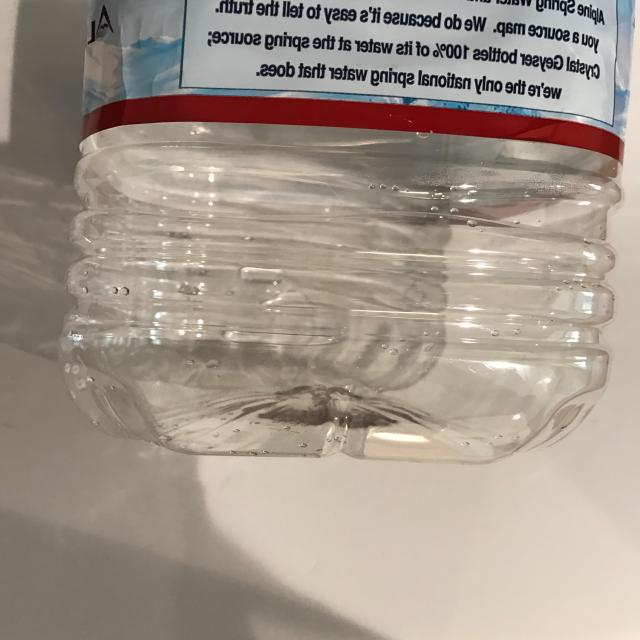plastic: (57, 0, 635, 465)
